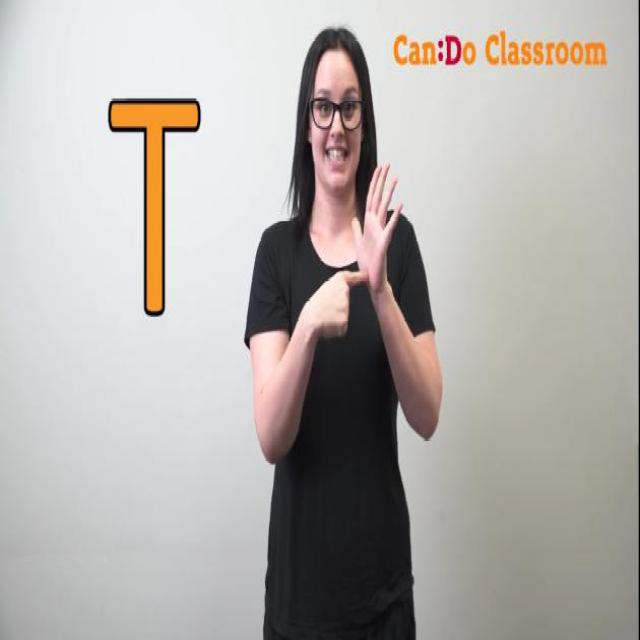T: (329, 155, 409, 355)
